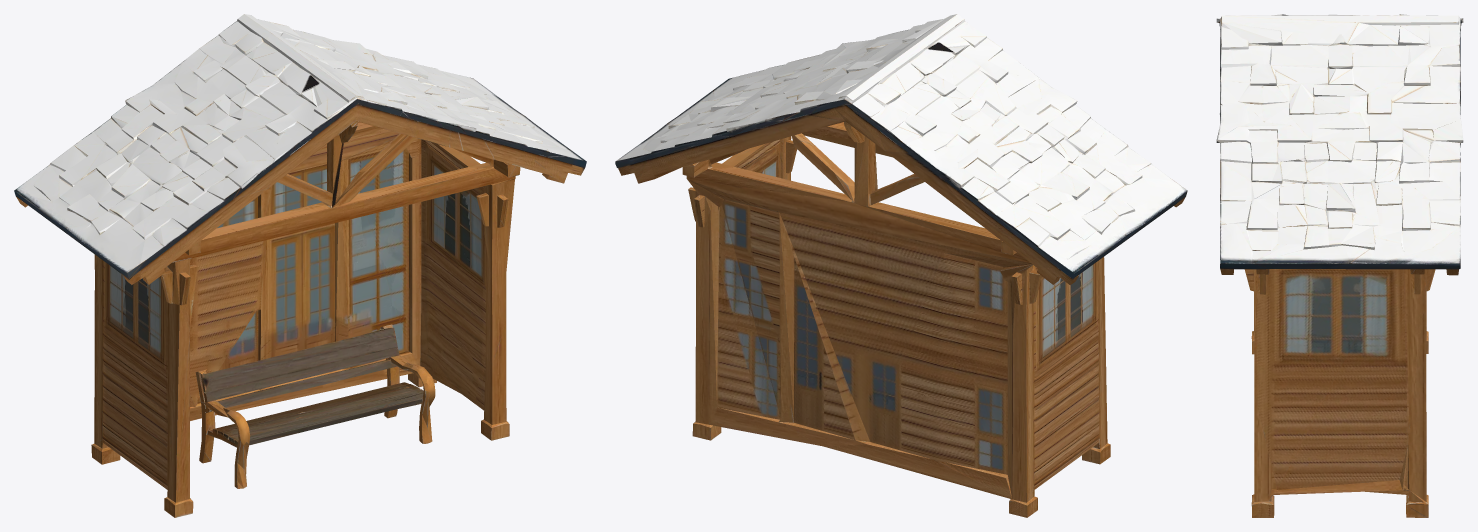
File: bus_shelter.glb
3 renders of one model, left to right at view 1: azimuth 30°, elevation 25°; view 2: azimuth 150°, elevation 25°; view 3: azimuth 270°, elevation 25°, orthographic. The views are drawn at different scales.
Size of the model in its own units: 1.9 by 1.55 by 0.8328.
1 material, 1 textured.
